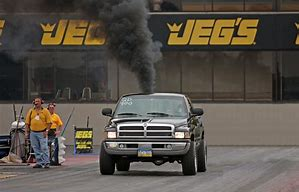smoke: (92, 1, 156, 94)
